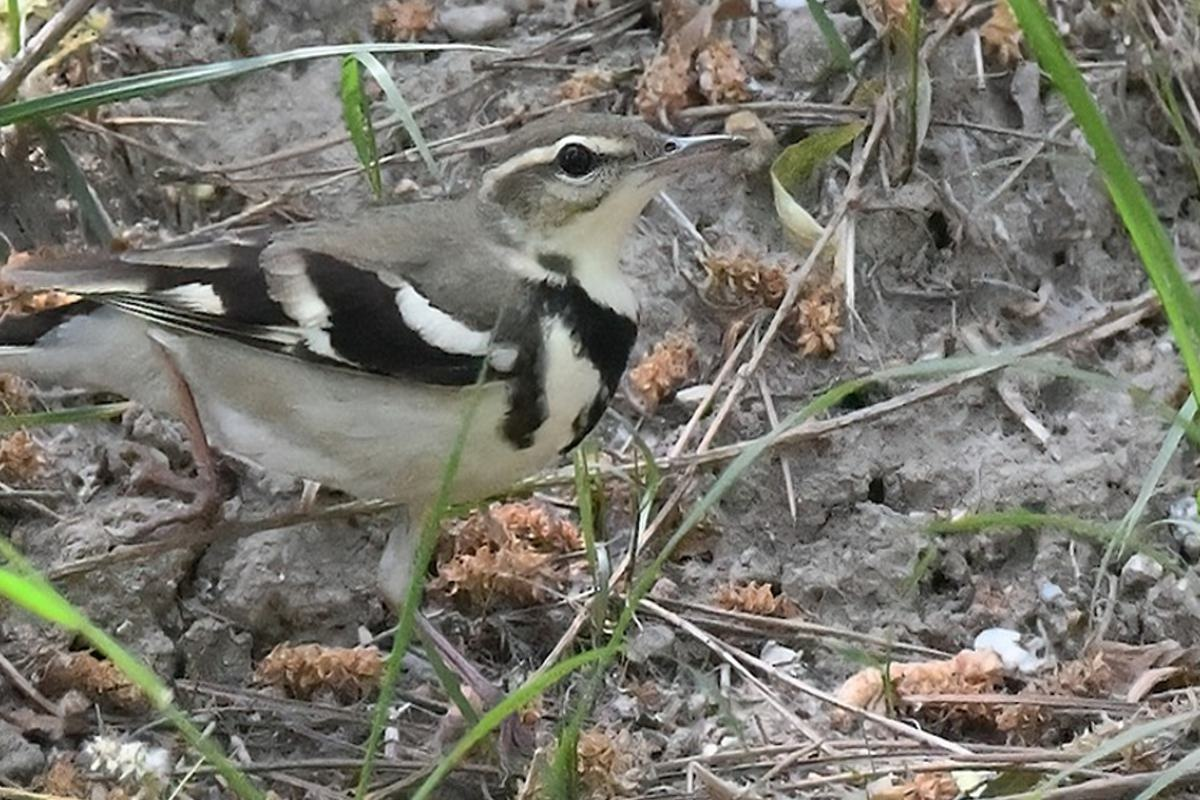wagtail: (48, 122, 785, 546)
